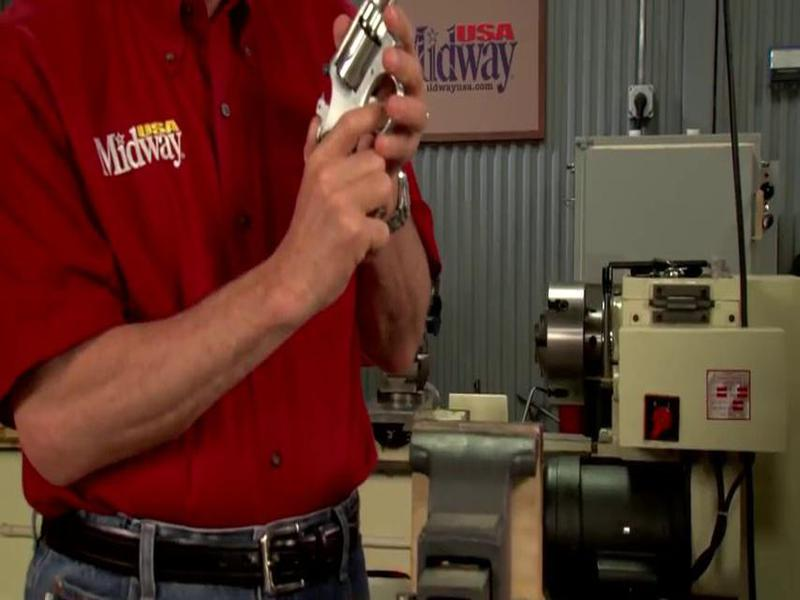Revolver: (287, 1, 426, 244)
